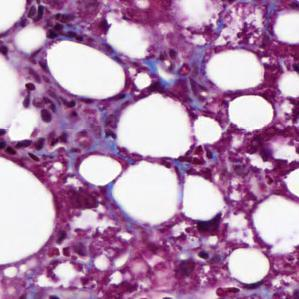inflammation: (16, 75, 61, 123)
